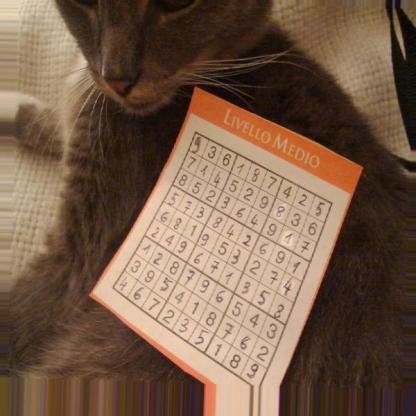sudoku: (110, 129, 335, 388)
